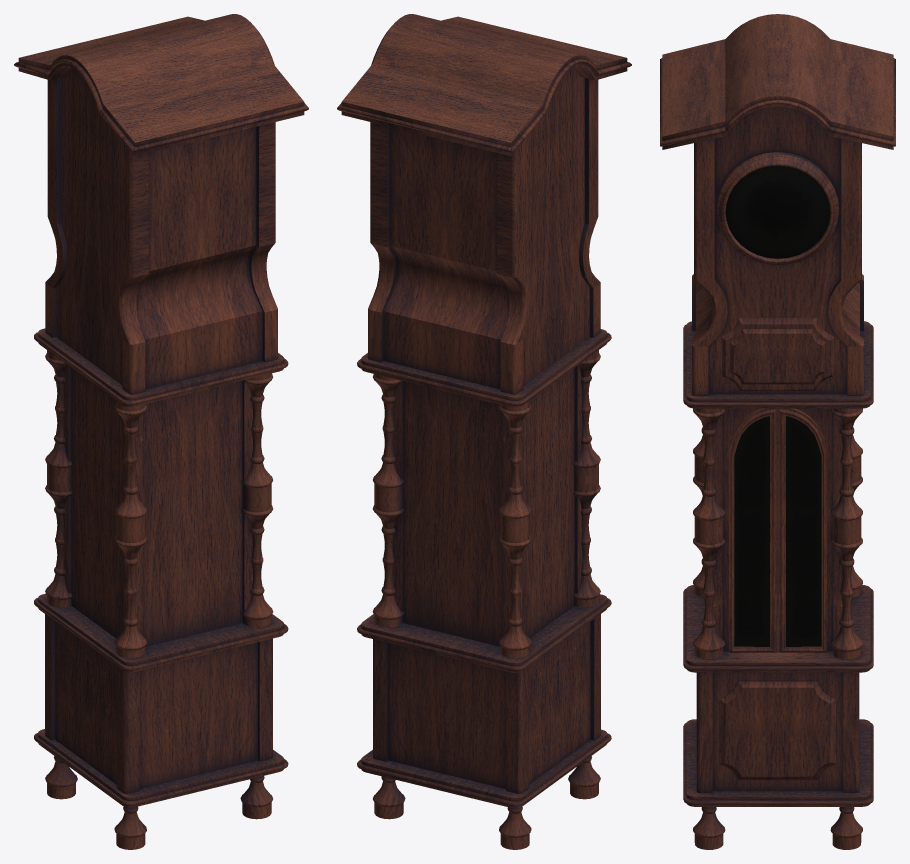
File: Clock.fbx
The picture shows the model from 3 angles, left to right: view 1: azimuth 30°, elevation 25°; view 2: azimuth 150°, elevation 25°; view 3: azimuth 270°, elevation 25°; orthographic projection.
Visible parts, largest first — view 1: Base; view 2: Base; view 3: Base, Glass.
Part boxes in pixels (x1,y1,x2,y2): Base: (14,14,308,849); Base: (337,14,631,849); Base: (660,14,895,849); Glass: (725,165,830,646).
Size of the model in its own units: 385 by 1596 by 449.
Materials: 4 (2 with a texture image).
